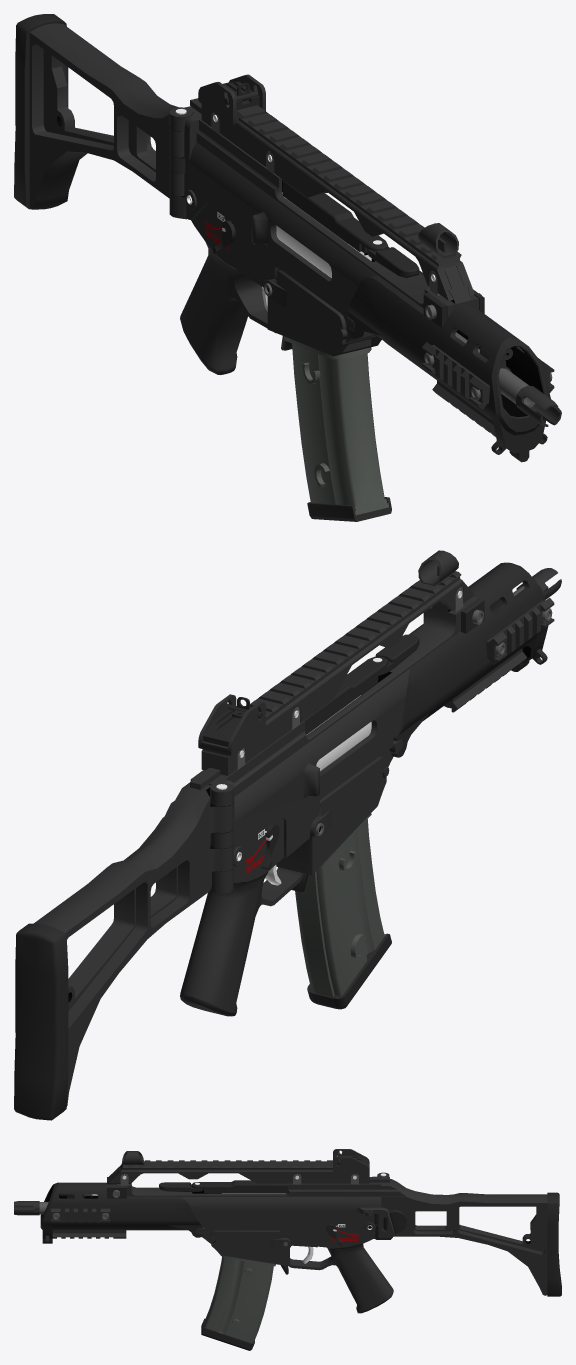
File: silah3.glb
3 views of the same model, one above another, from view 1: azimuth 30°, elevation 25°; view 2: azimuth 150°, elevation 25°; view 3: azimuth 270°, elevation 25° (orthographic). The views are drawn at different scales.
Parts seen in each view (by area): view 1: base, stock, mag, slide, chamber; view 2: base, stock, mag, slide, chamber; view 3: base, stock, mag, slide, chamber.
Boxes of the visible parts, bbox=[...] form: base: bbox=[169, 74, 561, 462]; stock: bbox=[14, 14, 197, 209]; mag: bbox=[284, 250, 391, 521]; slide: bbox=[276, 180, 388, 277]; chamber: bbox=[366, 247, 419, 277]; base: bbox=[180, 550, 561, 1016]; stock: bbox=[14, 782, 233, 1120]; mag: bbox=[295, 746, 391, 1009]; slide: bbox=[303, 656, 388, 771]; chamber: bbox=[375, 634, 419, 675]; base: bbox=[14, 1149, 394, 1313]; stock: bbox=[381, 1179, 561, 1296]; mag: bbox=[201, 1255, 275, 1350]; slide: bbox=[191, 1180, 287, 1193]; chamber: bbox=[159, 1182, 203, 1191].
Size of the model in its own units: 0.8284 by 3.83 by 9.74.
1 material, 1 textured.
